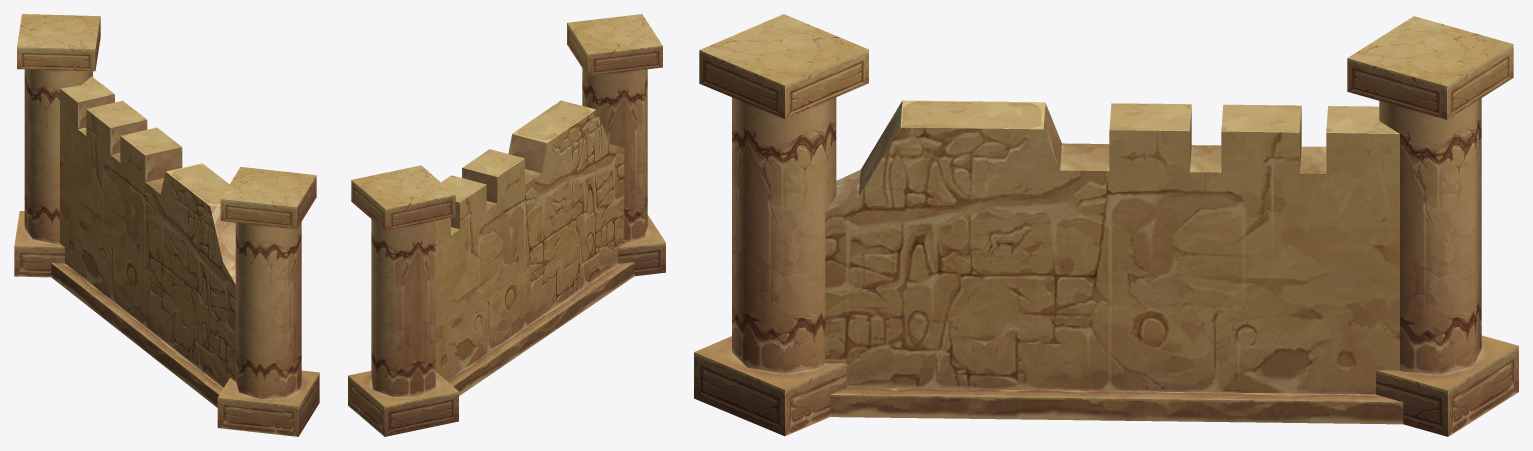
The model's file is Area_12_16.fbx.
3 renders of one model, left to right at view 1: azimuth 30°, elevation 25°; view 2: azimuth 150°, elevation 25°; view 3: azimuth 270°, elevation 25°, orthographic. The views are drawn at different scales.
Visible parts, largest first — view 1: Area_12_16; view 2: Area_12_16; view 3: Area_12_16.
Boxes of the visible parts, x1,y1,x2,y2 form: Area_12_16: [14, 14, 319, 436]; Area_12_16: [348, 14, 665, 436]; Area_12_16: [694, 14, 1518, 436].
Size of the model in its own units: 194 by 409 by 878.
